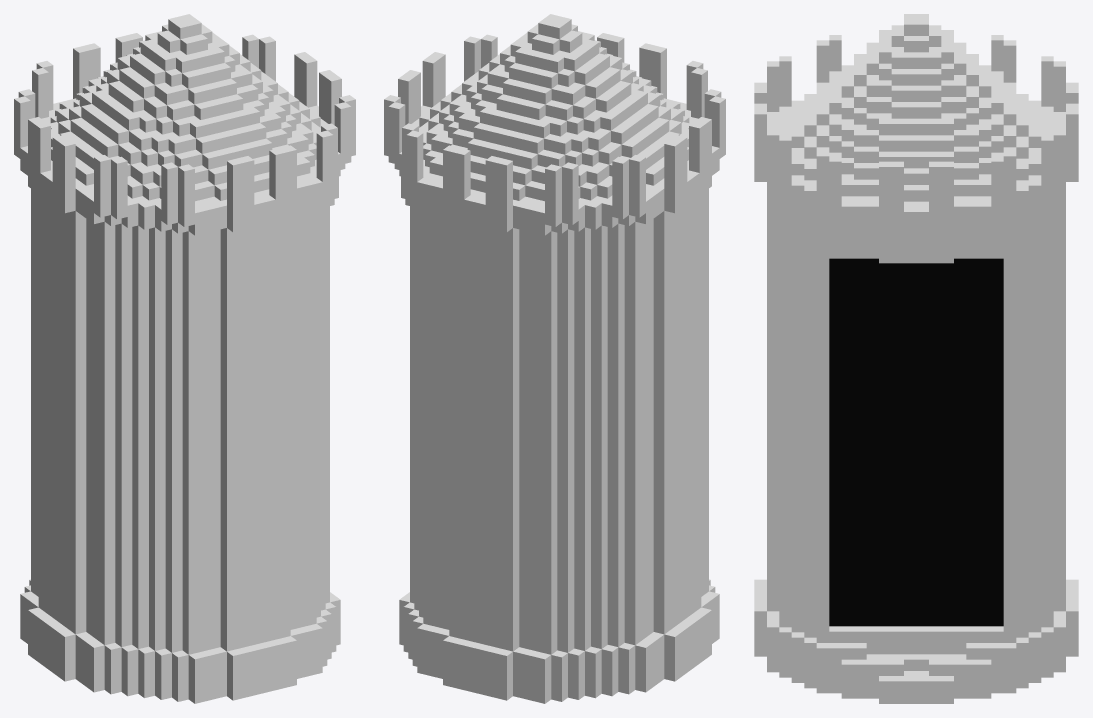
File: Tura White.obj
3 views of the same model, side by side, from view 1: azimuth 30°, elevation 25°; view 2: azimuth 150°, elevation 25°; view 3: azimuth 270°, elevation 25° (orthographic).
Bounding box in the file's own units: 2.6 × 5.5 × 2.6.
Materials: 1 (1 with a texture image).
